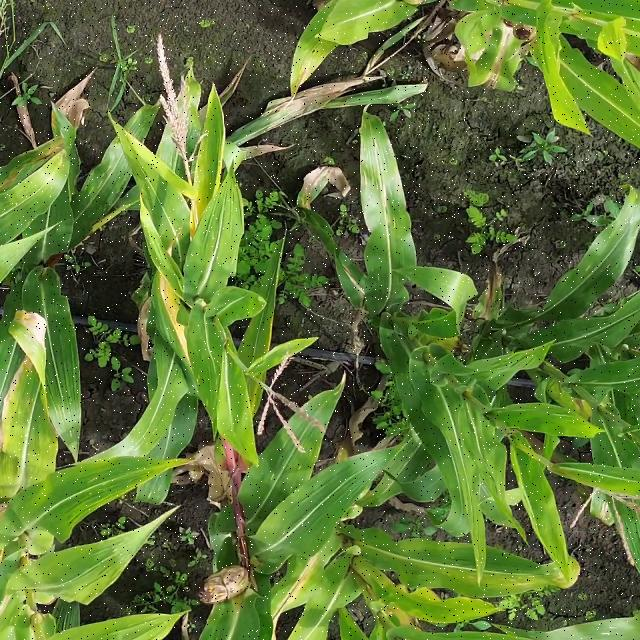gray-leaf-spot: (352, 129, 422, 239), (43, 368, 104, 484), (76, 522, 154, 588)
northern-leaf-blight: (293, 161, 372, 279), (166, 107, 236, 239), (141, 260, 216, 374), (0, 106, 84, 203), (0, 286, 44, 450), (486, 15, 549, 107)
southern-leaf-blight: (438, 553, 570, 625), (238, 439, 322, 509)
